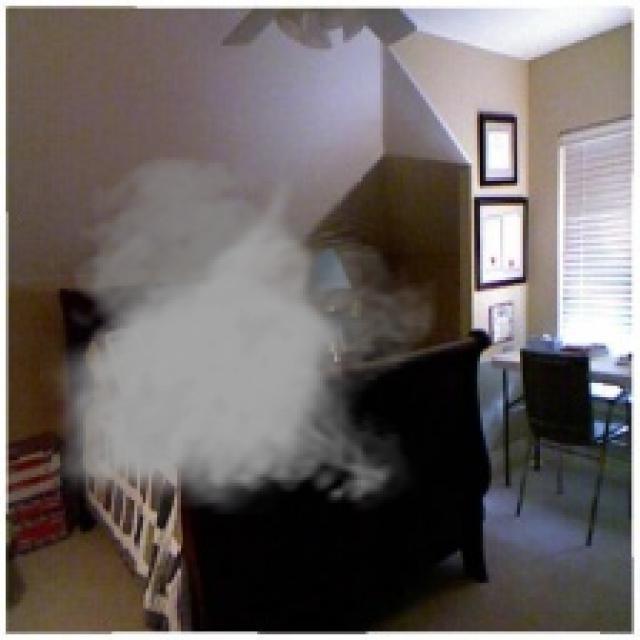Smoke: (40, 152, 437, 514)
